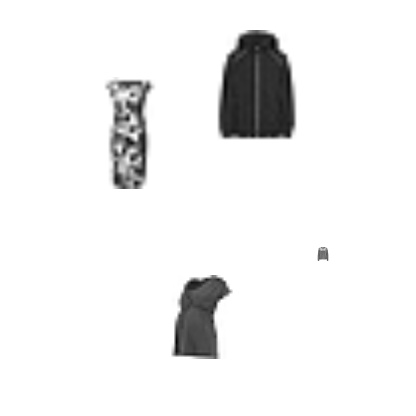3: (84, 353, 140, 409)
9: (228, 257, 256, 285), (141, 190, 155, 204)
Ankle_boot: (25, 9, 53, 37)
Shirt: (125, 110, 209, 194), (4, 188, 46, 230)
T-shirt/top: (353, 293, 367, 307)
Trouser: (110, 48, 124, 62)
